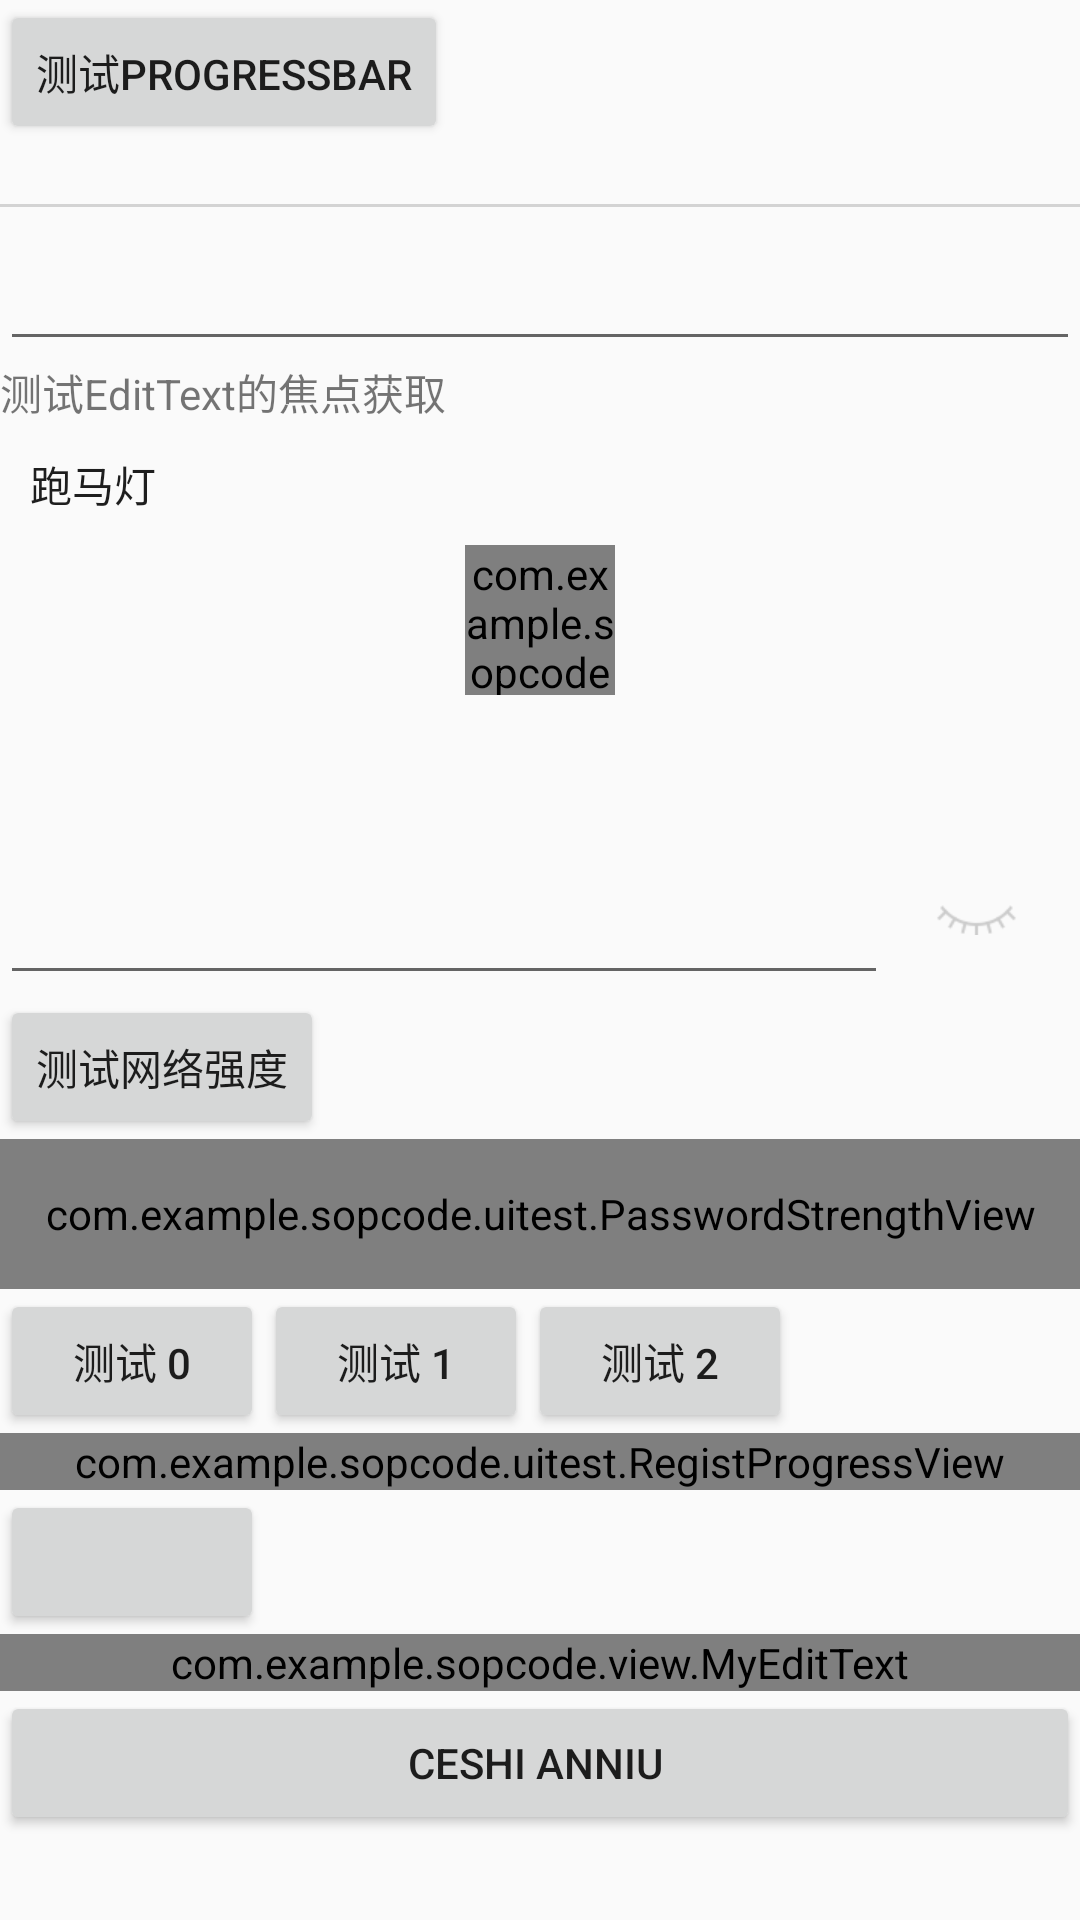

Icons on this 1080 × 1920 Android screen, each with its box as (x1, y1, x2, y2):
eye: (938, 906, 1015, 935)
